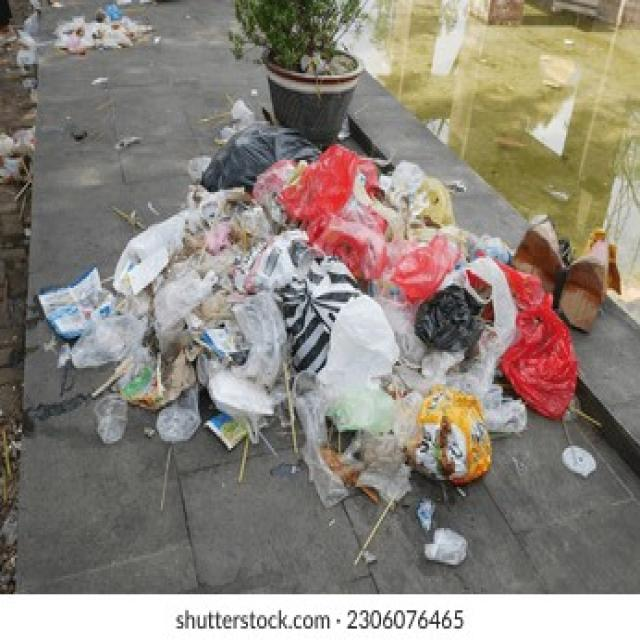trash: (192, 192, 483, 430)
